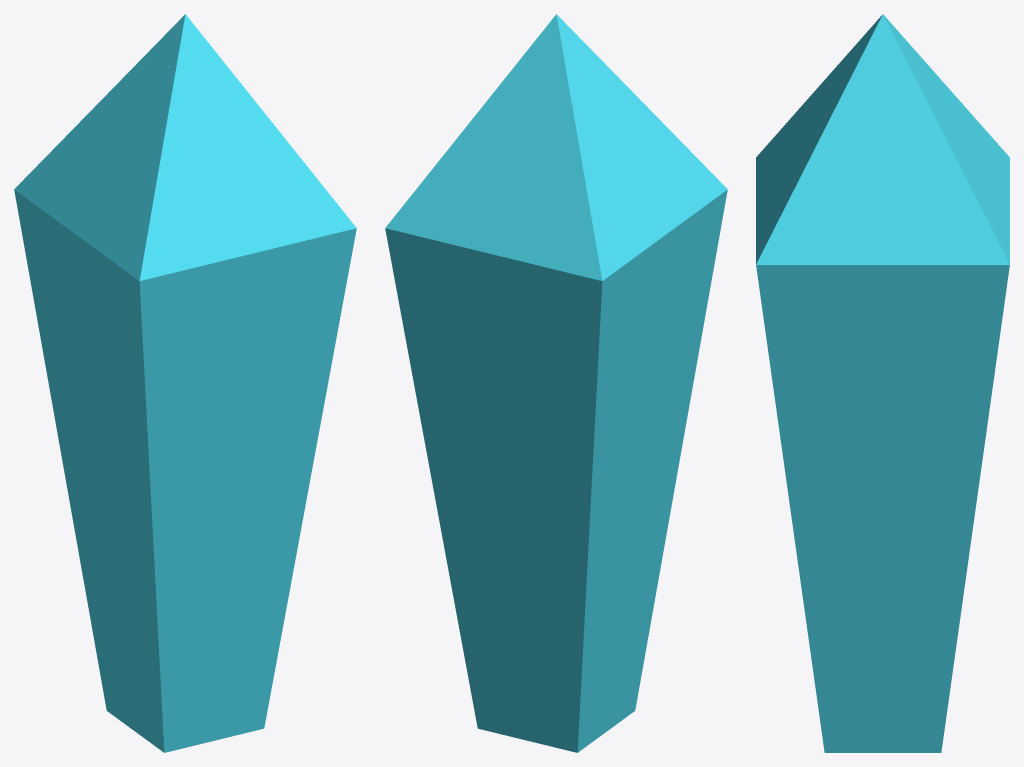
File: crystal1.fbx
The picture shows the model from 3 angles, left to right: view 1: azimuth 30°, elevation 25°; view 2: azimuth 150°, elevation 25°; view 3: azimuth 270°, elevation 25°; orthographic projection.
Parts seen in each view (by area): view 1: crystal1; view 2: crystal1; view 3: crystal1.
Boxes of the visible parts, x1,y1,x2,y2 form: crystal1: [14, 14, 356, 752]; crystal1: [385, 14, 727, 752]; crystal1: [756, 14, 1009, 752].
Size of the model in its own units: 62.82 by 195 by 62.82.
